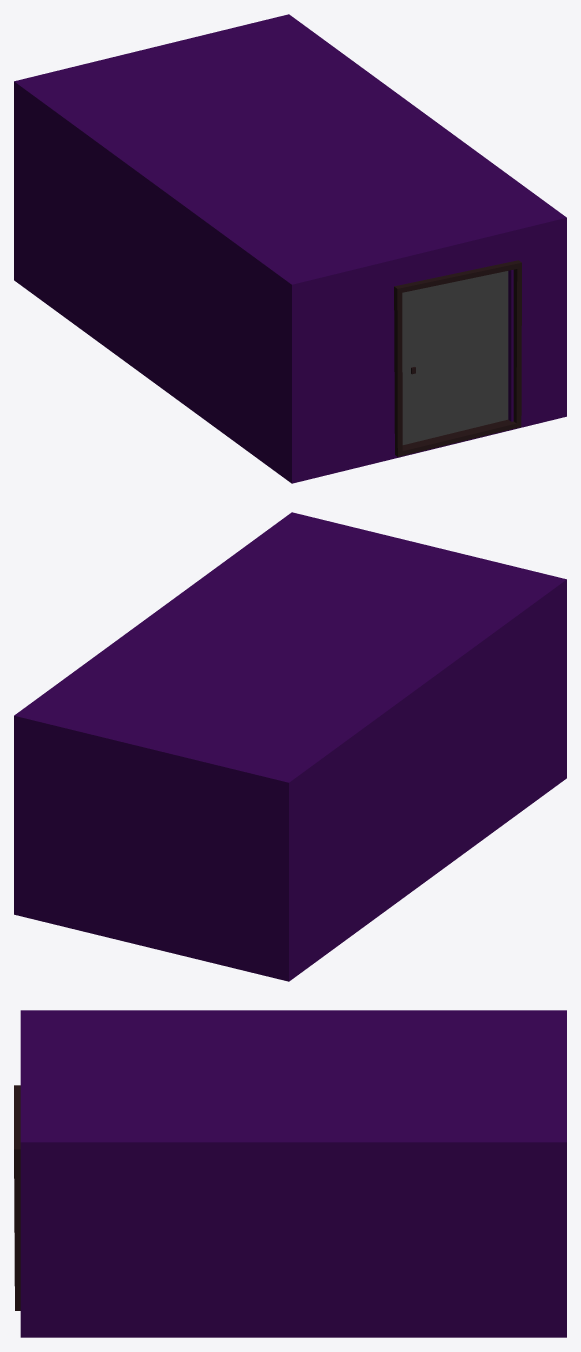
The model's file is Mapa_Cocina.fbx.
3 renders of one model, top to bottom at view 1: azimuth 30°, elevation 25°; view 2: azimuth 150°, elevation 25°; view 3: azimuth 270°, elevation 25°, orthographic.
Visible parts, largest first — view 1: Paredes, Puerta, Marco_Puerta; view 2: Paredes; view 3: Paredes, Marco_Puerta.
Part boxes in pixels (x1,y1,x2,y2): Paredes: (14, 14, 566, 483); Puerta: (402, 271, 508, 444); Marco_Puerta: (394, 260, 521, 456); Paredes: (14, 512, 566, 981); Paredes: (20, 1010, 566, 1337); Marco_Puerta: (14, 1085, 20, 1310).
Size of the model in its own units: 1493 by 1032 by 2644.
